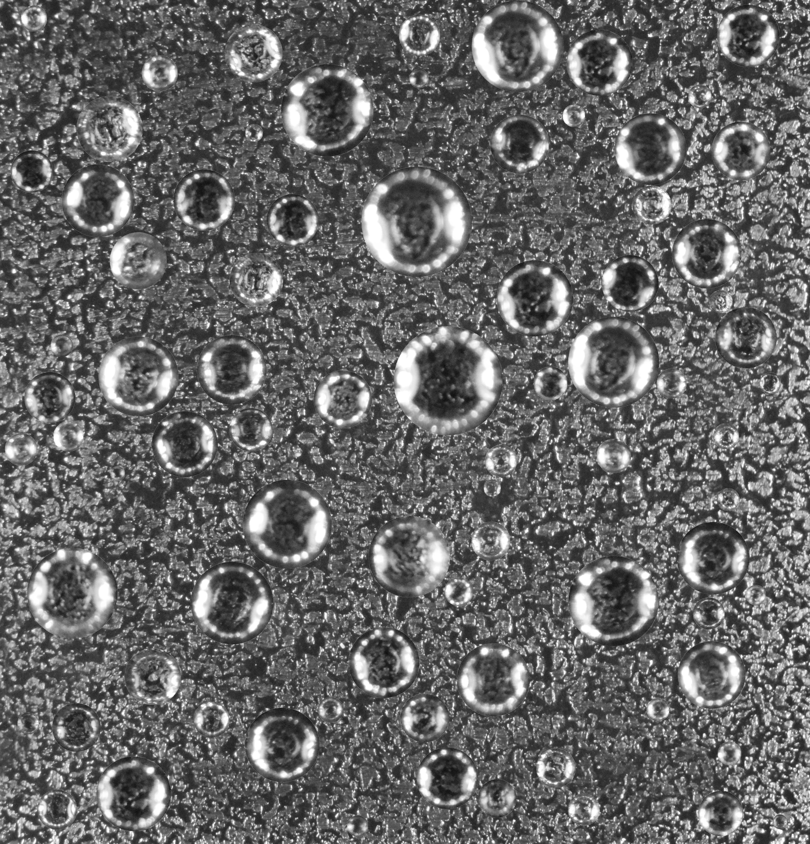Bubble: (361, 166, 471, 276), (393, 326, 502, 435), (281, 64, 373, 156), (471, 0, 563, 91), (568, 316, 659, 407), (27, 548, 117, 638), (568, 556, 658, 646), (242, 479, 331, 568), (190, 561, 273, 644), (368, 516, 449, 597), (98, 336, 178, 416), (496, 260, 573, 336), (245, 707, 319, 782), (96, 756, 170, 831), (456, 643, 529, 716), (61, 164, 134, 236), (677, 522, 749, 594), (614, 113, 686, 184), (348, 627, 419, 698), (196, 335, 266, 404), (672, 219, 741, 288), (678, 641, 745, 708), (566, 29, 632, 95), (151, 411, 217, 477), (76, 96, 142, 161), (717, 4, 779, 66), (416, 747, 478, 809), (173, 169, 234, 230), (715, 307, 776, 368), (490, 114, 549, 173), (711, 121, 770, 180), (313, 370, 371, 428), (224, 24, 282, 82), (109, 232, 166, 289), (602, 255, 658, 311), (124, 648, 180, 704), (229, 253, 283, 306), (266, 194, 318, 246), (24, 372, 75, 422), (400, 693, 449, 742), (52, 703, 100, 751), (698, 791, 743, 836), (229, 408, 272, 451), (10, 150, 52, 192), (399, 14, 440, 55), (37, 789, 76, 829), (471, 521, 510, 560), (536, 748, 575, 787), (632, 185, 671, 224), (478, 779, 516, 817), (141, 55, 177, 91), (193, 701, 229, 737), (596, 438, 631, 473), (533, 366, 567, 400), (4, 433, 37, 465), (568, 793, 599, 825), (693, 597, 724, 629), (485, 445, 516, 476), (53, 421, 83, 451), (656, 368, 686, 398), (444, 577, 473, 605), (713, 423, 739, 449), (20, 5, 46, 31), (318, 697, 343, 722), (717, 741, 741, 765), (688, 84, 711, 107), (709, 290, 732, 313), (646, 698, 669, 721), (562, 104, 585, 126), (759, 372, 781, 394), (50, 334, 72, 356), (717, 488, 739, 510), (17, 712, 38, 734), (347, 815, 368, 836), (746, 585, 766, 605), (409, 68, 428, 87), (483, 479, 500, 496), (245, 124, 262, 141), (772, 814, 787, 829), (110, 466, 124, 480)
